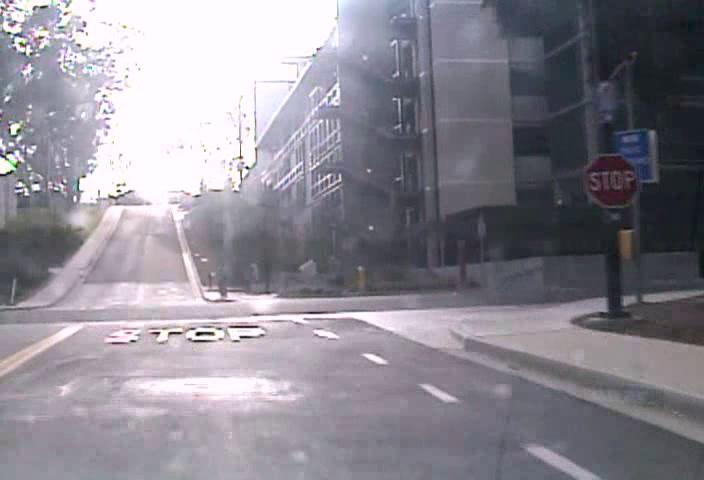stop: (583, 153, 639, 209)
